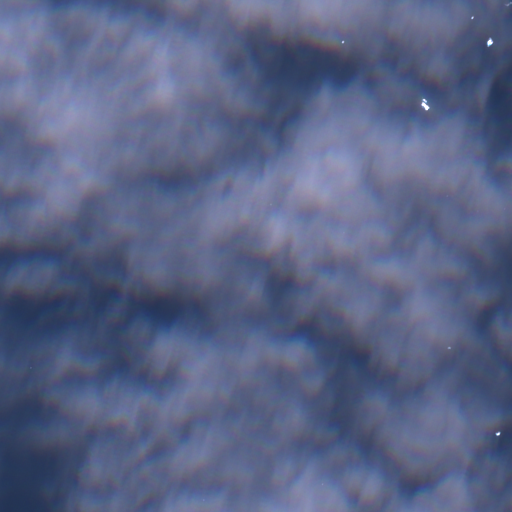Iceberg: (421, 98, 429, 110), (486, 37, 493, 46), (495, 431, 500, 435), (341, 40, 344, 43), (471, 16, 473, 19), (448, 347, 450, 348)
